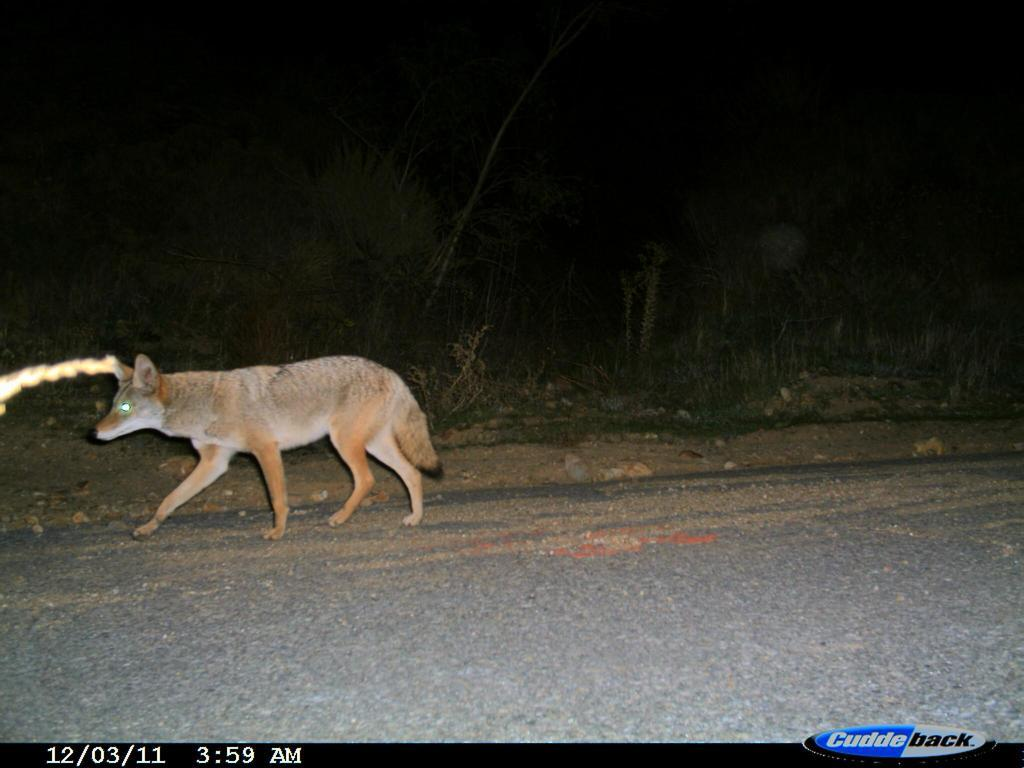coyote: (80, 346, 459, 553)
